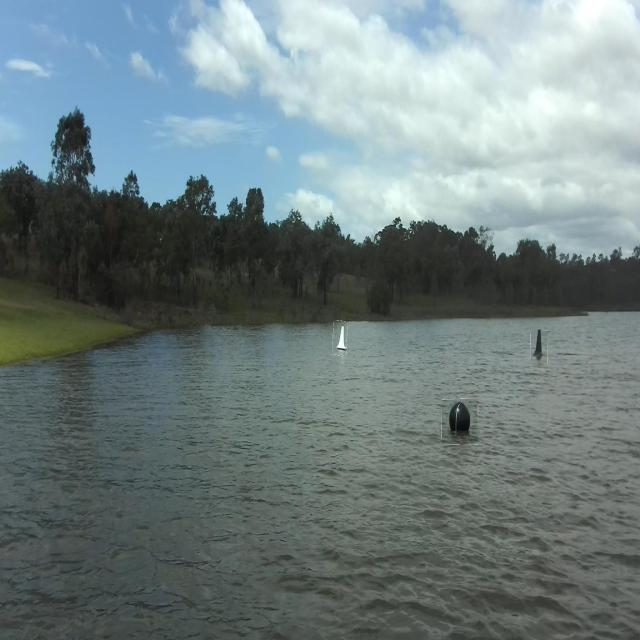Black_Buoy: (441, 398, 477, 442), (532, 324, 552, 366)
White_Buoy: (333, 321, 347, 354)
